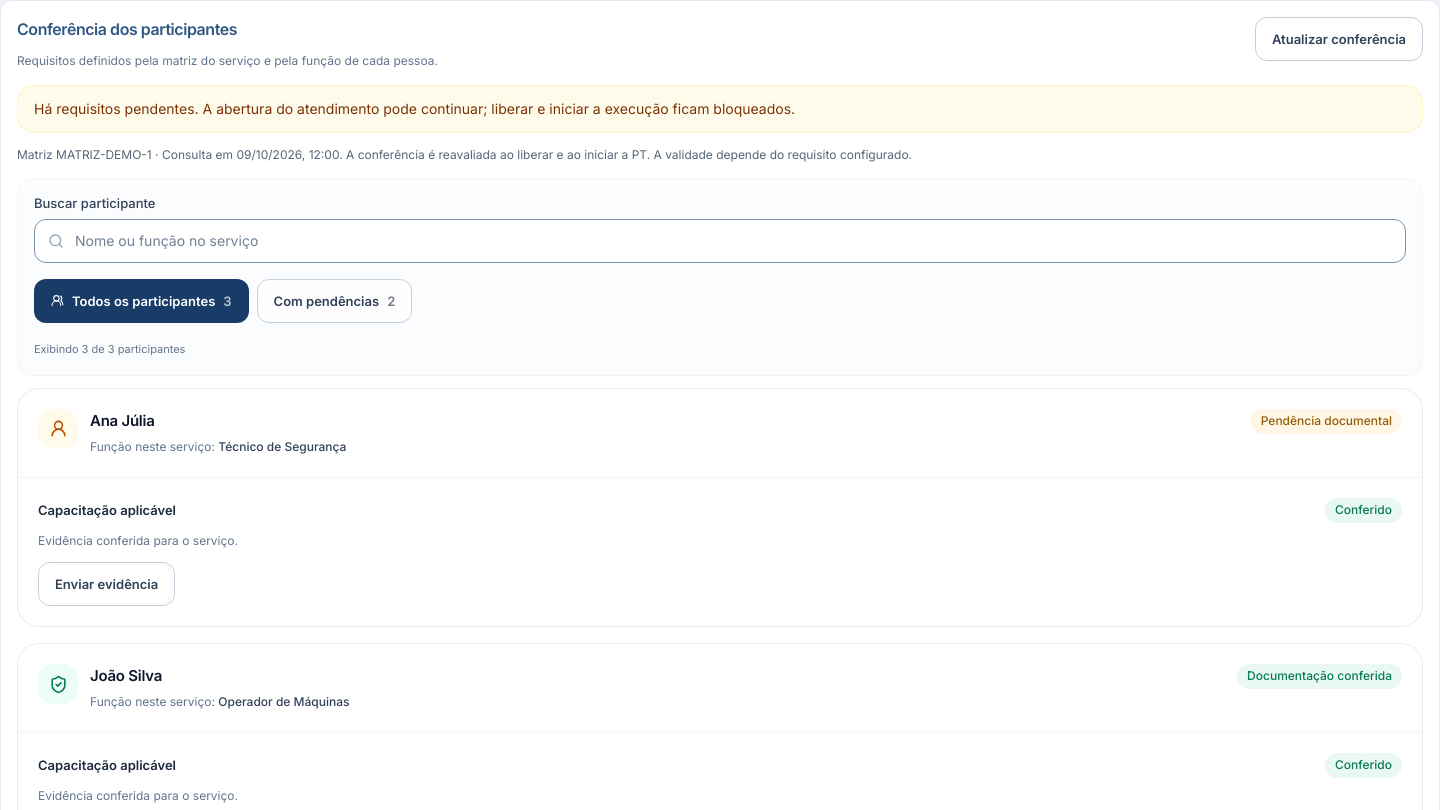
Scenario: Filtros locais da conferência documental › busca por nome e função ignorando acentos, caixa e espaços nas extremidades
Type "  JOAO  " into the search field labelled "Buscar participante". click: (720, 241)
box: [34,219,1406,263]
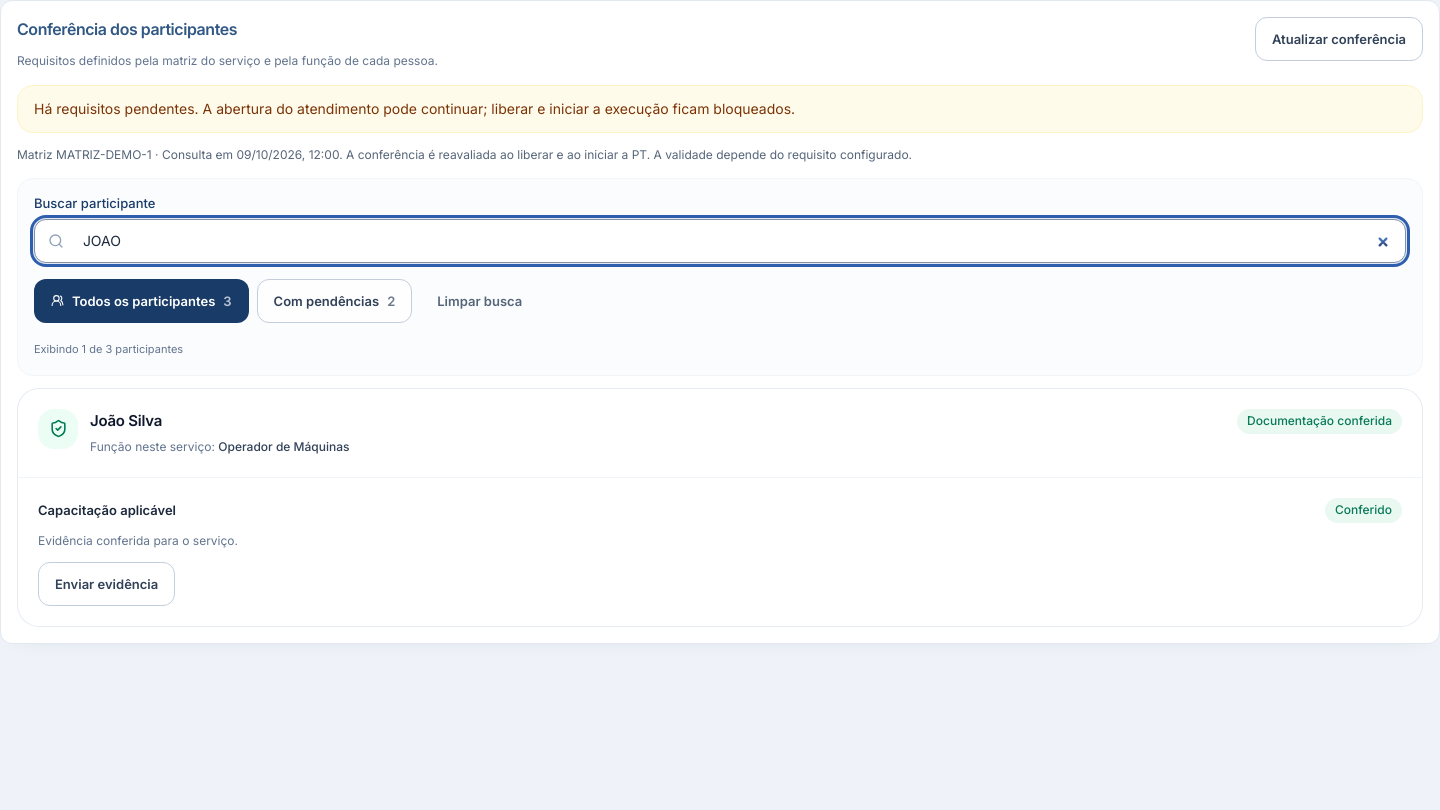
Expected: the element "João Silva" is shown, [17,388,1423,627]
Result: the heading "Ana Júlia" is gone
Result: the text "Exibindo 1 de 3 participantes" is shown at [34,342,183,356]
Click the button "Limpar busca". click: click(480, 301)
box: [420,279,539,323]
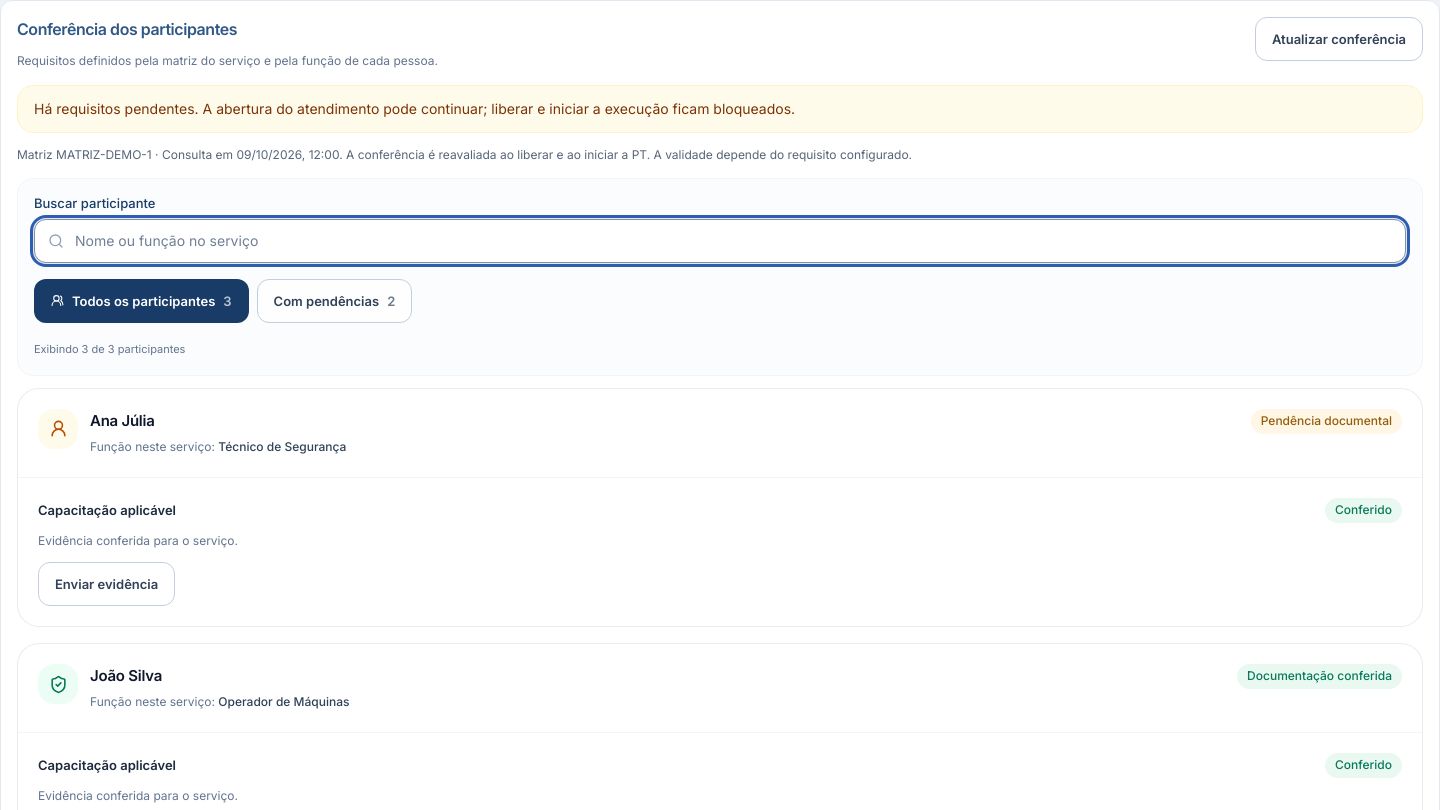
Result: the search field labelled "Buscar participante" is empty
Type "SEGURANCA" into the search field labelled "Buscar participante". click: (720, 241)
box: [34,219,1406,263]
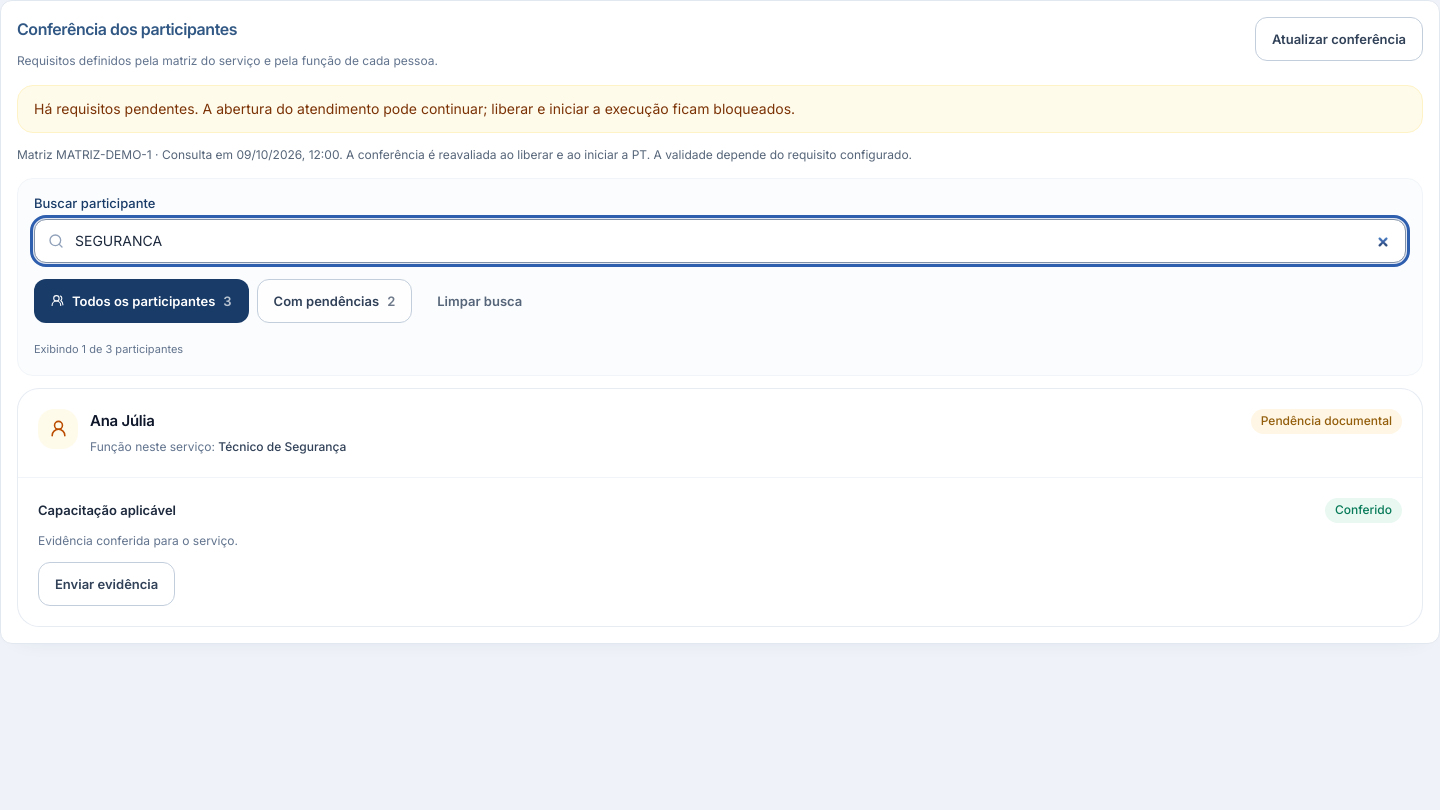
Result: the element "Ana Júlia" is shown at [17,388,1423,627]
Result: the heading "João Silva" is gone
